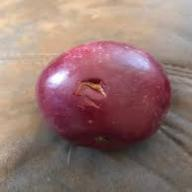apple: (32, 36, 176, 150)
